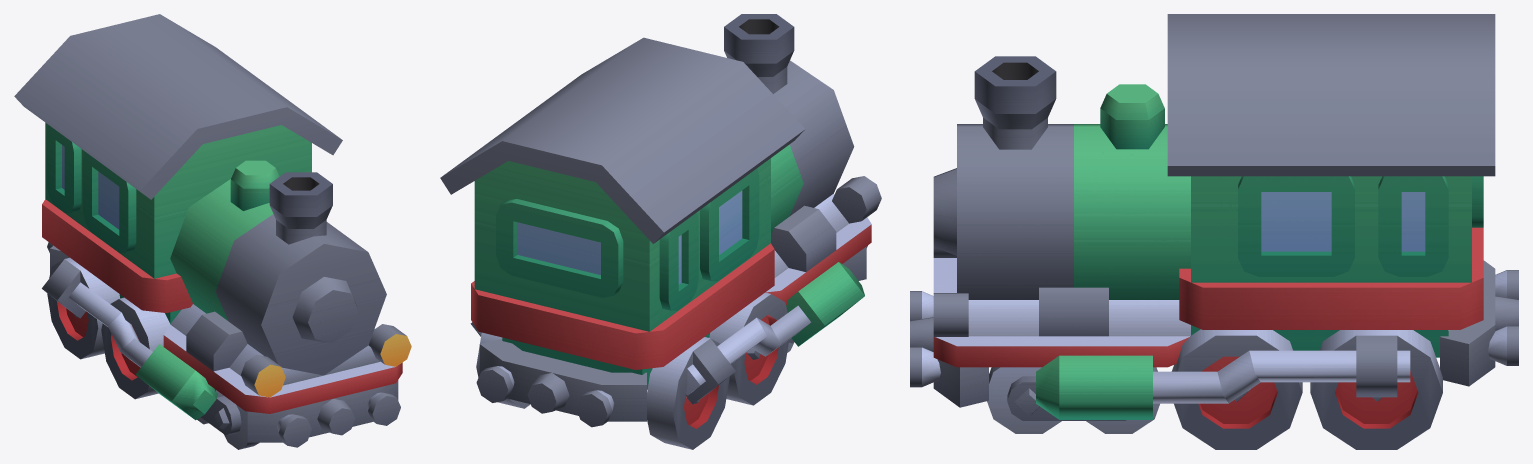
Rendered from locomotive_a.glb.
The picture shows the model from 3 angles, left to right: view 1: azimuth 30°, elevation 25°; view 2: azimuth 150°, elevation 25°; view 3: azimuth 270°, elevation 25°; orthographic projection. The views are drawn at different scales.
Visible parts, largest first — view 1: train-locomotive-a, wheel (×2), wheels-front; view 2: train-locomotive-a, wheel (×2); view 3: train-locomotive-a, wheel (×2), wheels-front.
Boxes of the visible parts, x1=… form: train-locomotive-a: x1=14, y1=14, x2=411, y2=447; wheel (×2): x1=47, y1=257, x2=170, y2=399; wheels-front: x1=197, y1=389, x2=259, y2=449; train-locomotive-a: x1=440, y1=14, x2=881, y2=427; wheel (×2): x1=647, y1=292, x2=789, y2=449; train-locomotive-a: x1=910, y1=14, x2=1518, y2=419; wheel (×2): x1=1171, y1=329, x2=1442, y2=449; wheels-front: x1=987, y1=367, x2=1159, y2=433.
Size of the model in its own units: 1.43 by 1.66 by 2.6.
1 material, 1 textured.
